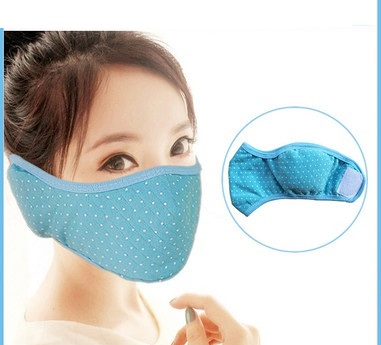face_mask: (52, 75, 202, 281)
